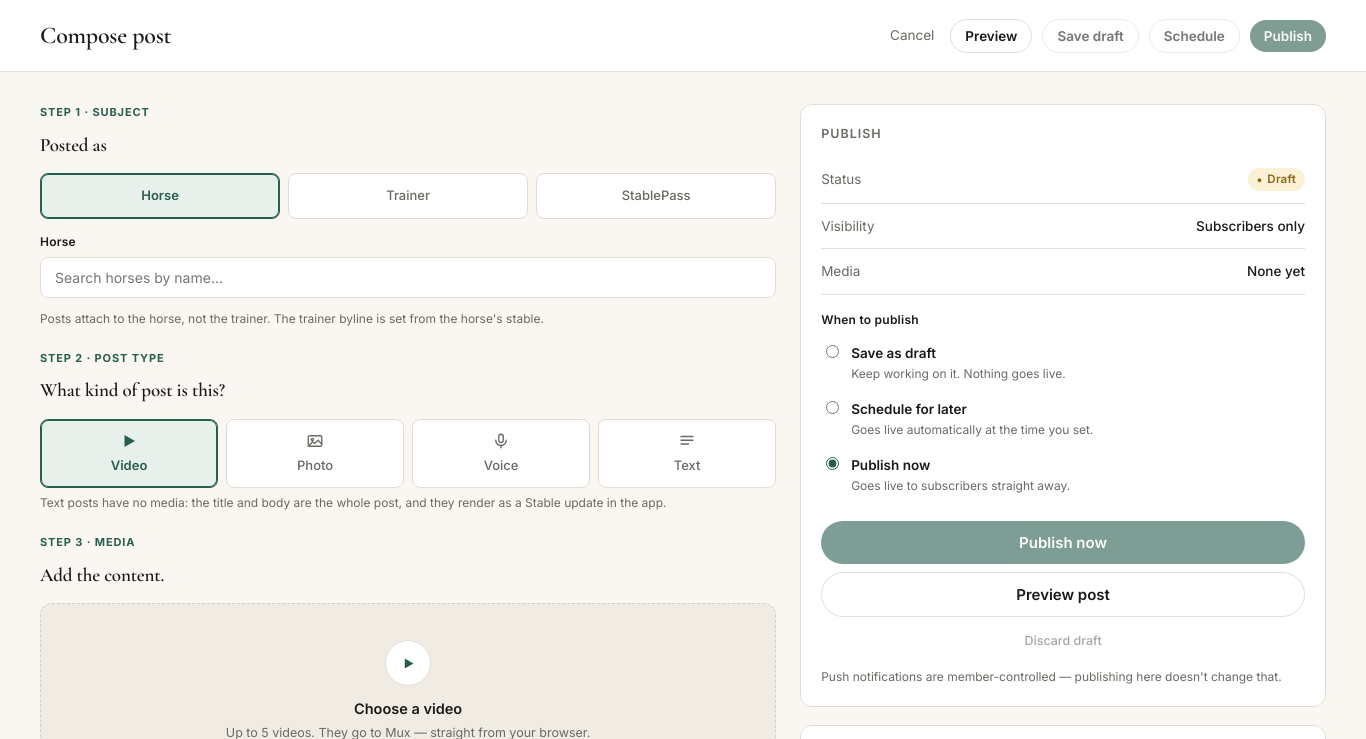
Test case: ENG-745 · the horse picker is not truncated at 8 › still narrows on the text filter
The image size is (1366, 739).
Type "Horse 1" into the field with test id "horse-search" at (408, 277), box [40,256,776,298]
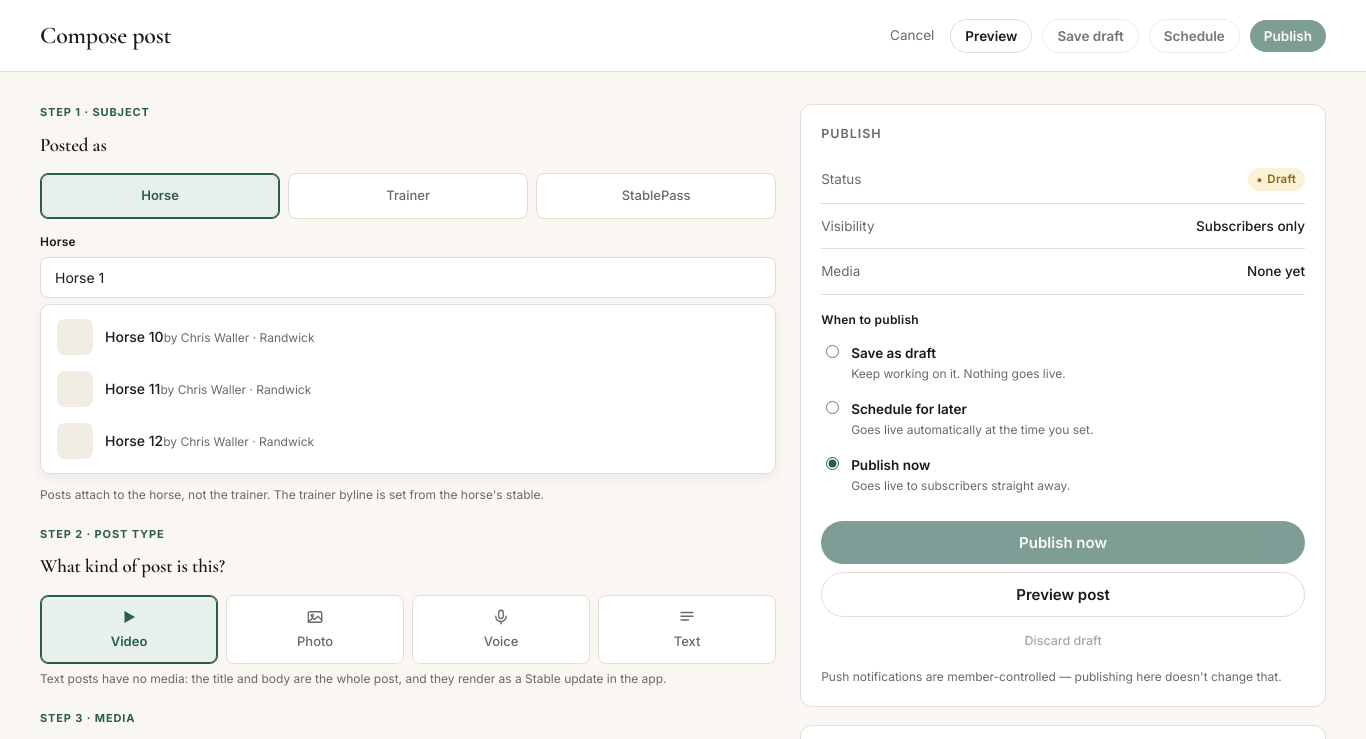
Expected: the button with test id "horse-opt-hz12" is shown, [47,414,769,466]
Expected: the button with test id "horse-opt-hz1" is gone
